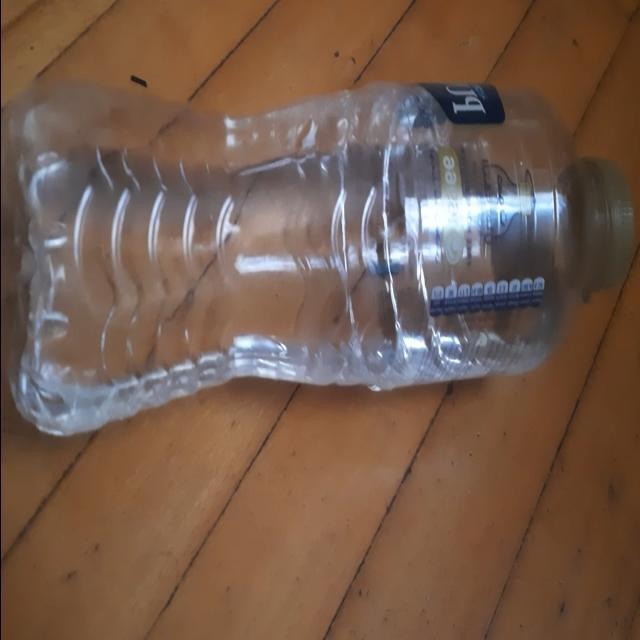Plastic: (0, 80, 634, 439)
